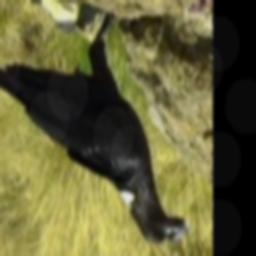Crow: (0, 8, 190, 247)
